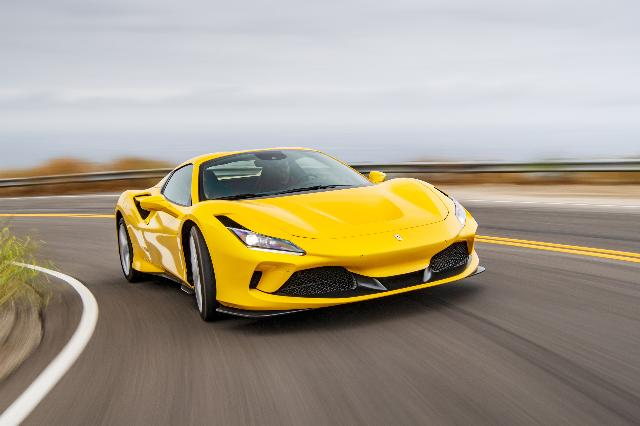ferrari: (114, 146, 486, 323)
